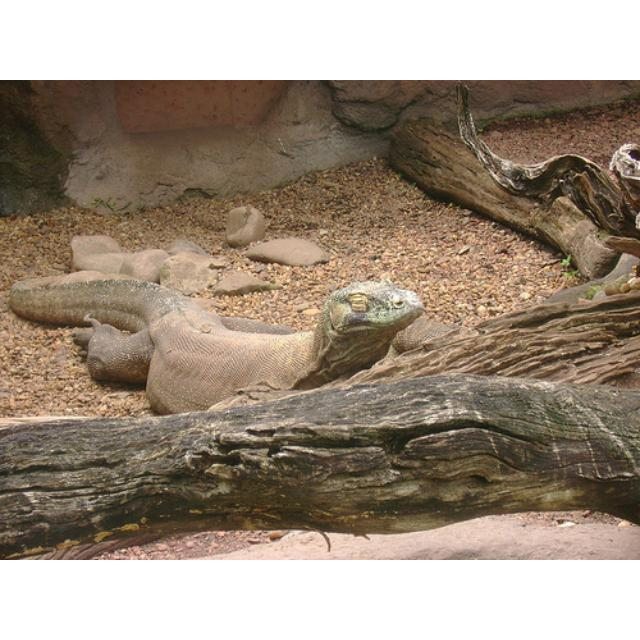KomodoDragon: (3, 268, 425, 412)
